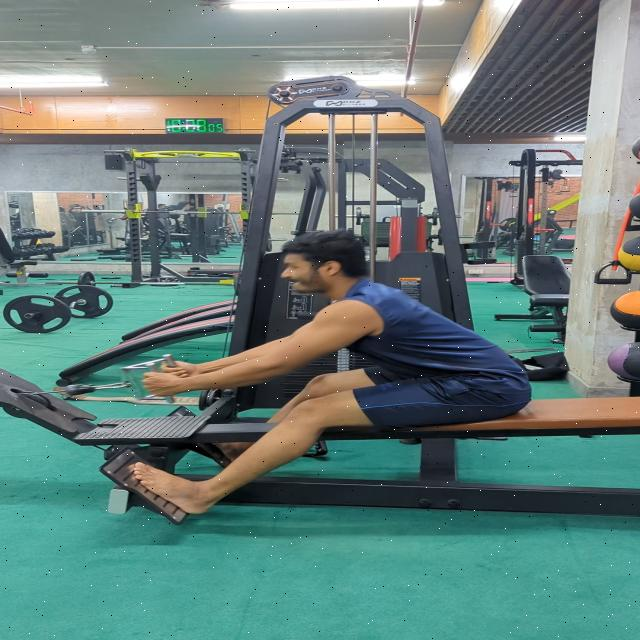Normal_RowingMachineExercise: (131, 228, 530, 515)
